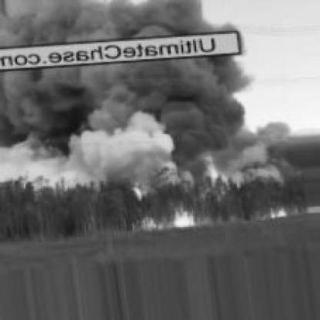Smoke: (15, 3, 263, 154)
